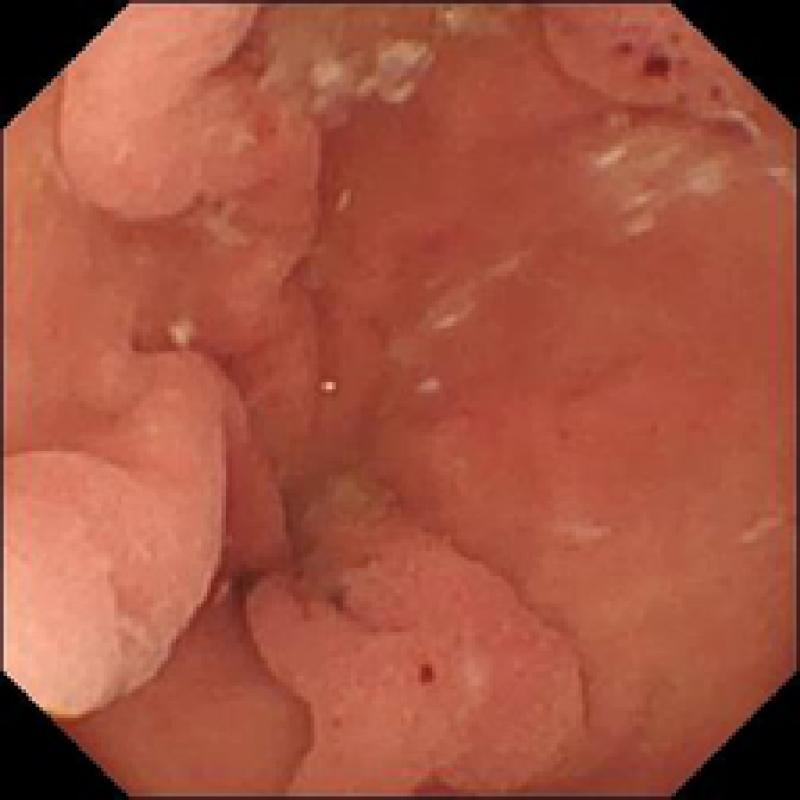bleeding: (607, 25, 732, 107), (413, 657, 438, 689)
